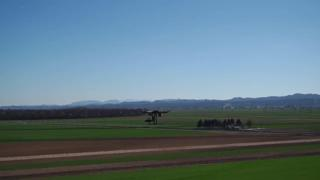UAV: (140, 108, 174, 124)
